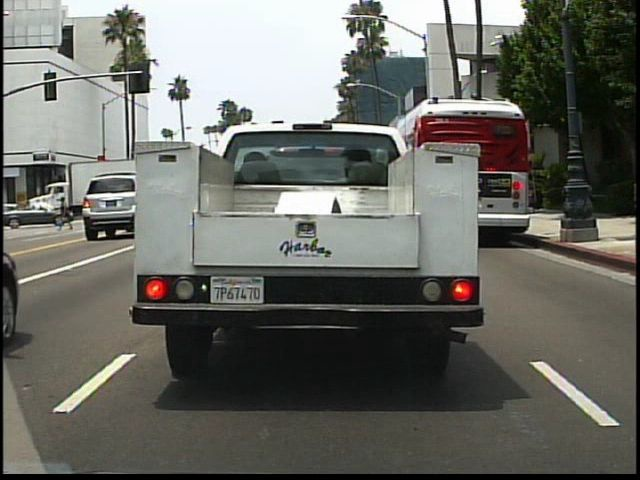person: (55, 191, 76, 235), (19, 196, 38, 231)
